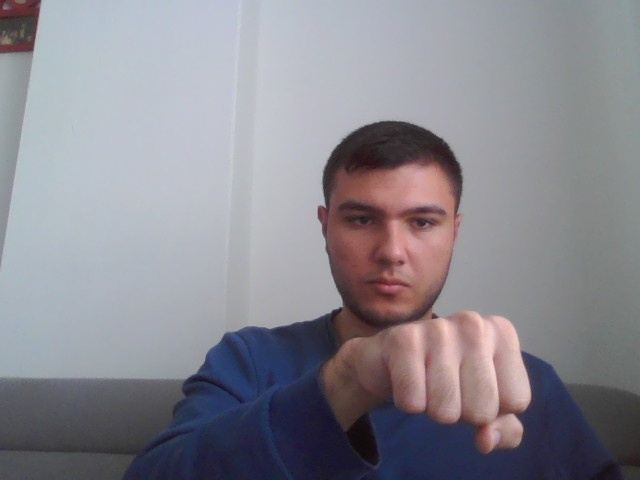yes: (374, 312, 539, 450)
